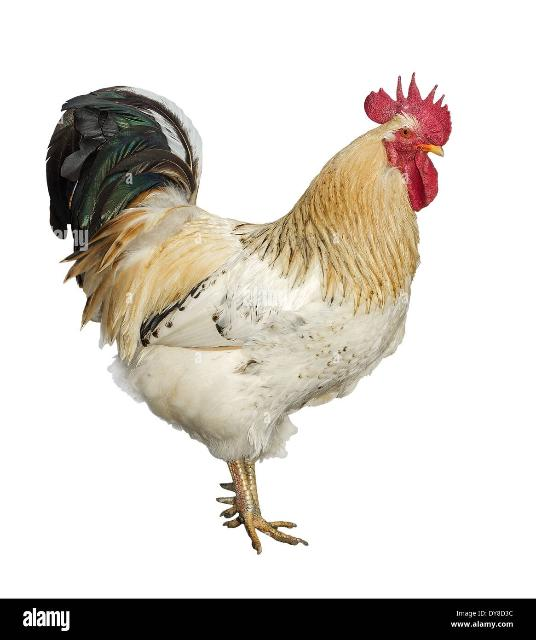Chicken: (47, 72, 451, 552)
